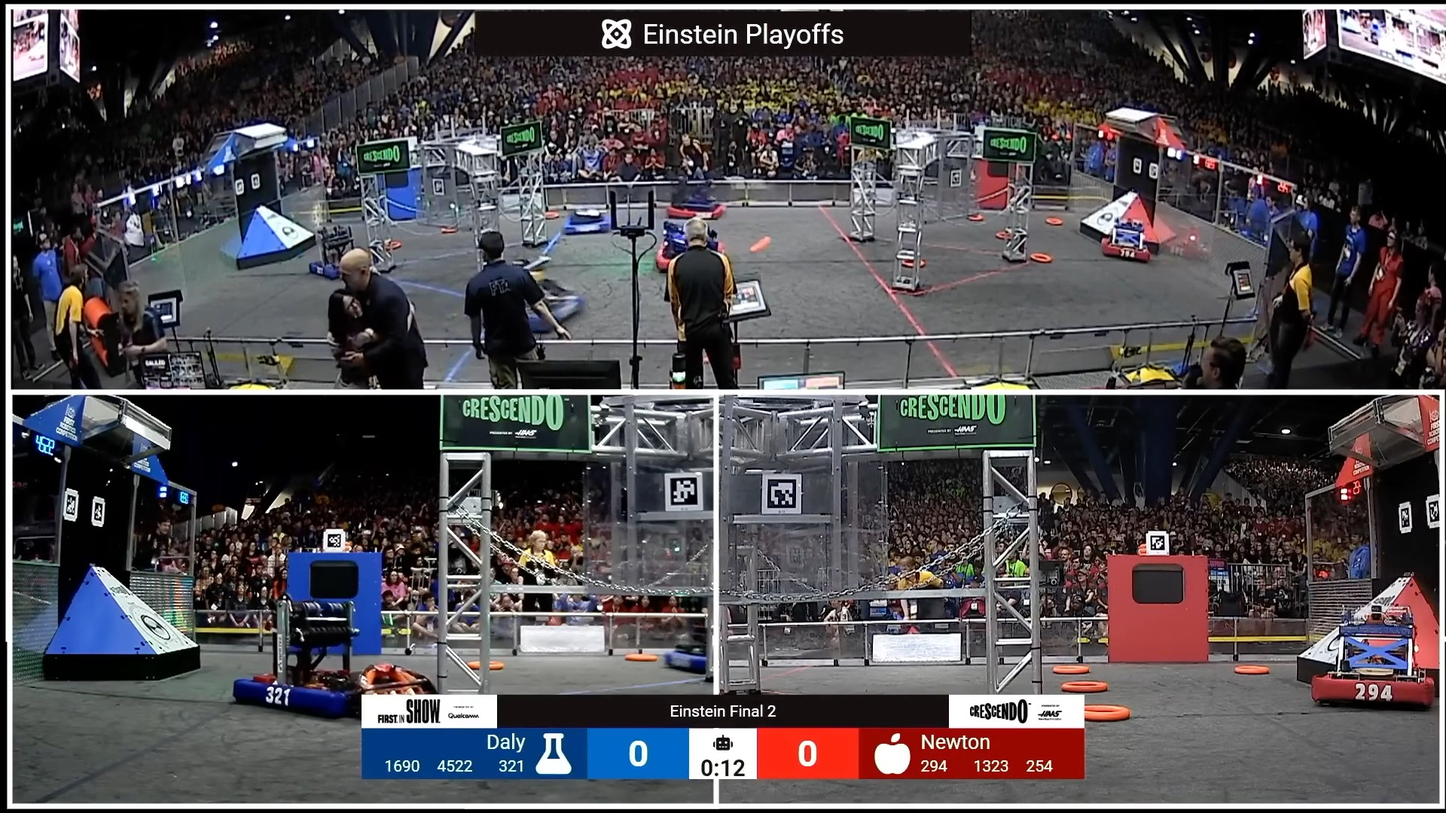bumpers: (230, 661, 367, 727), (1304, 669, 1440, 710), (488, 290, 586, 336), (1088, 222, 1178, 267), (663, 642, 748, 680), (305, 255, 372, 280), (664, 203, 729, 221), (560, 216, 614, 235)
